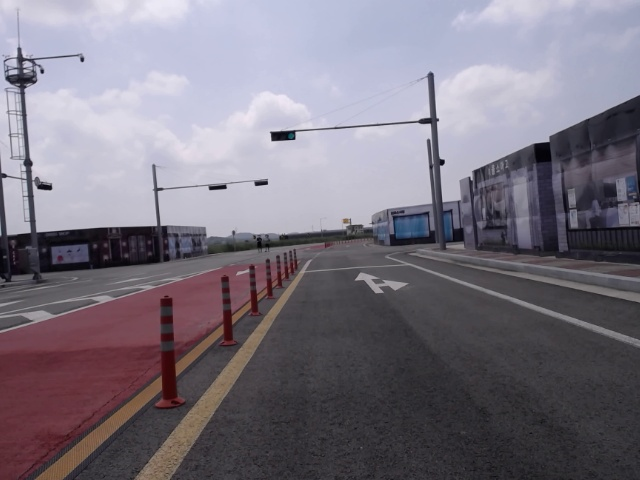green_3: (271, 132, 296, 142)
